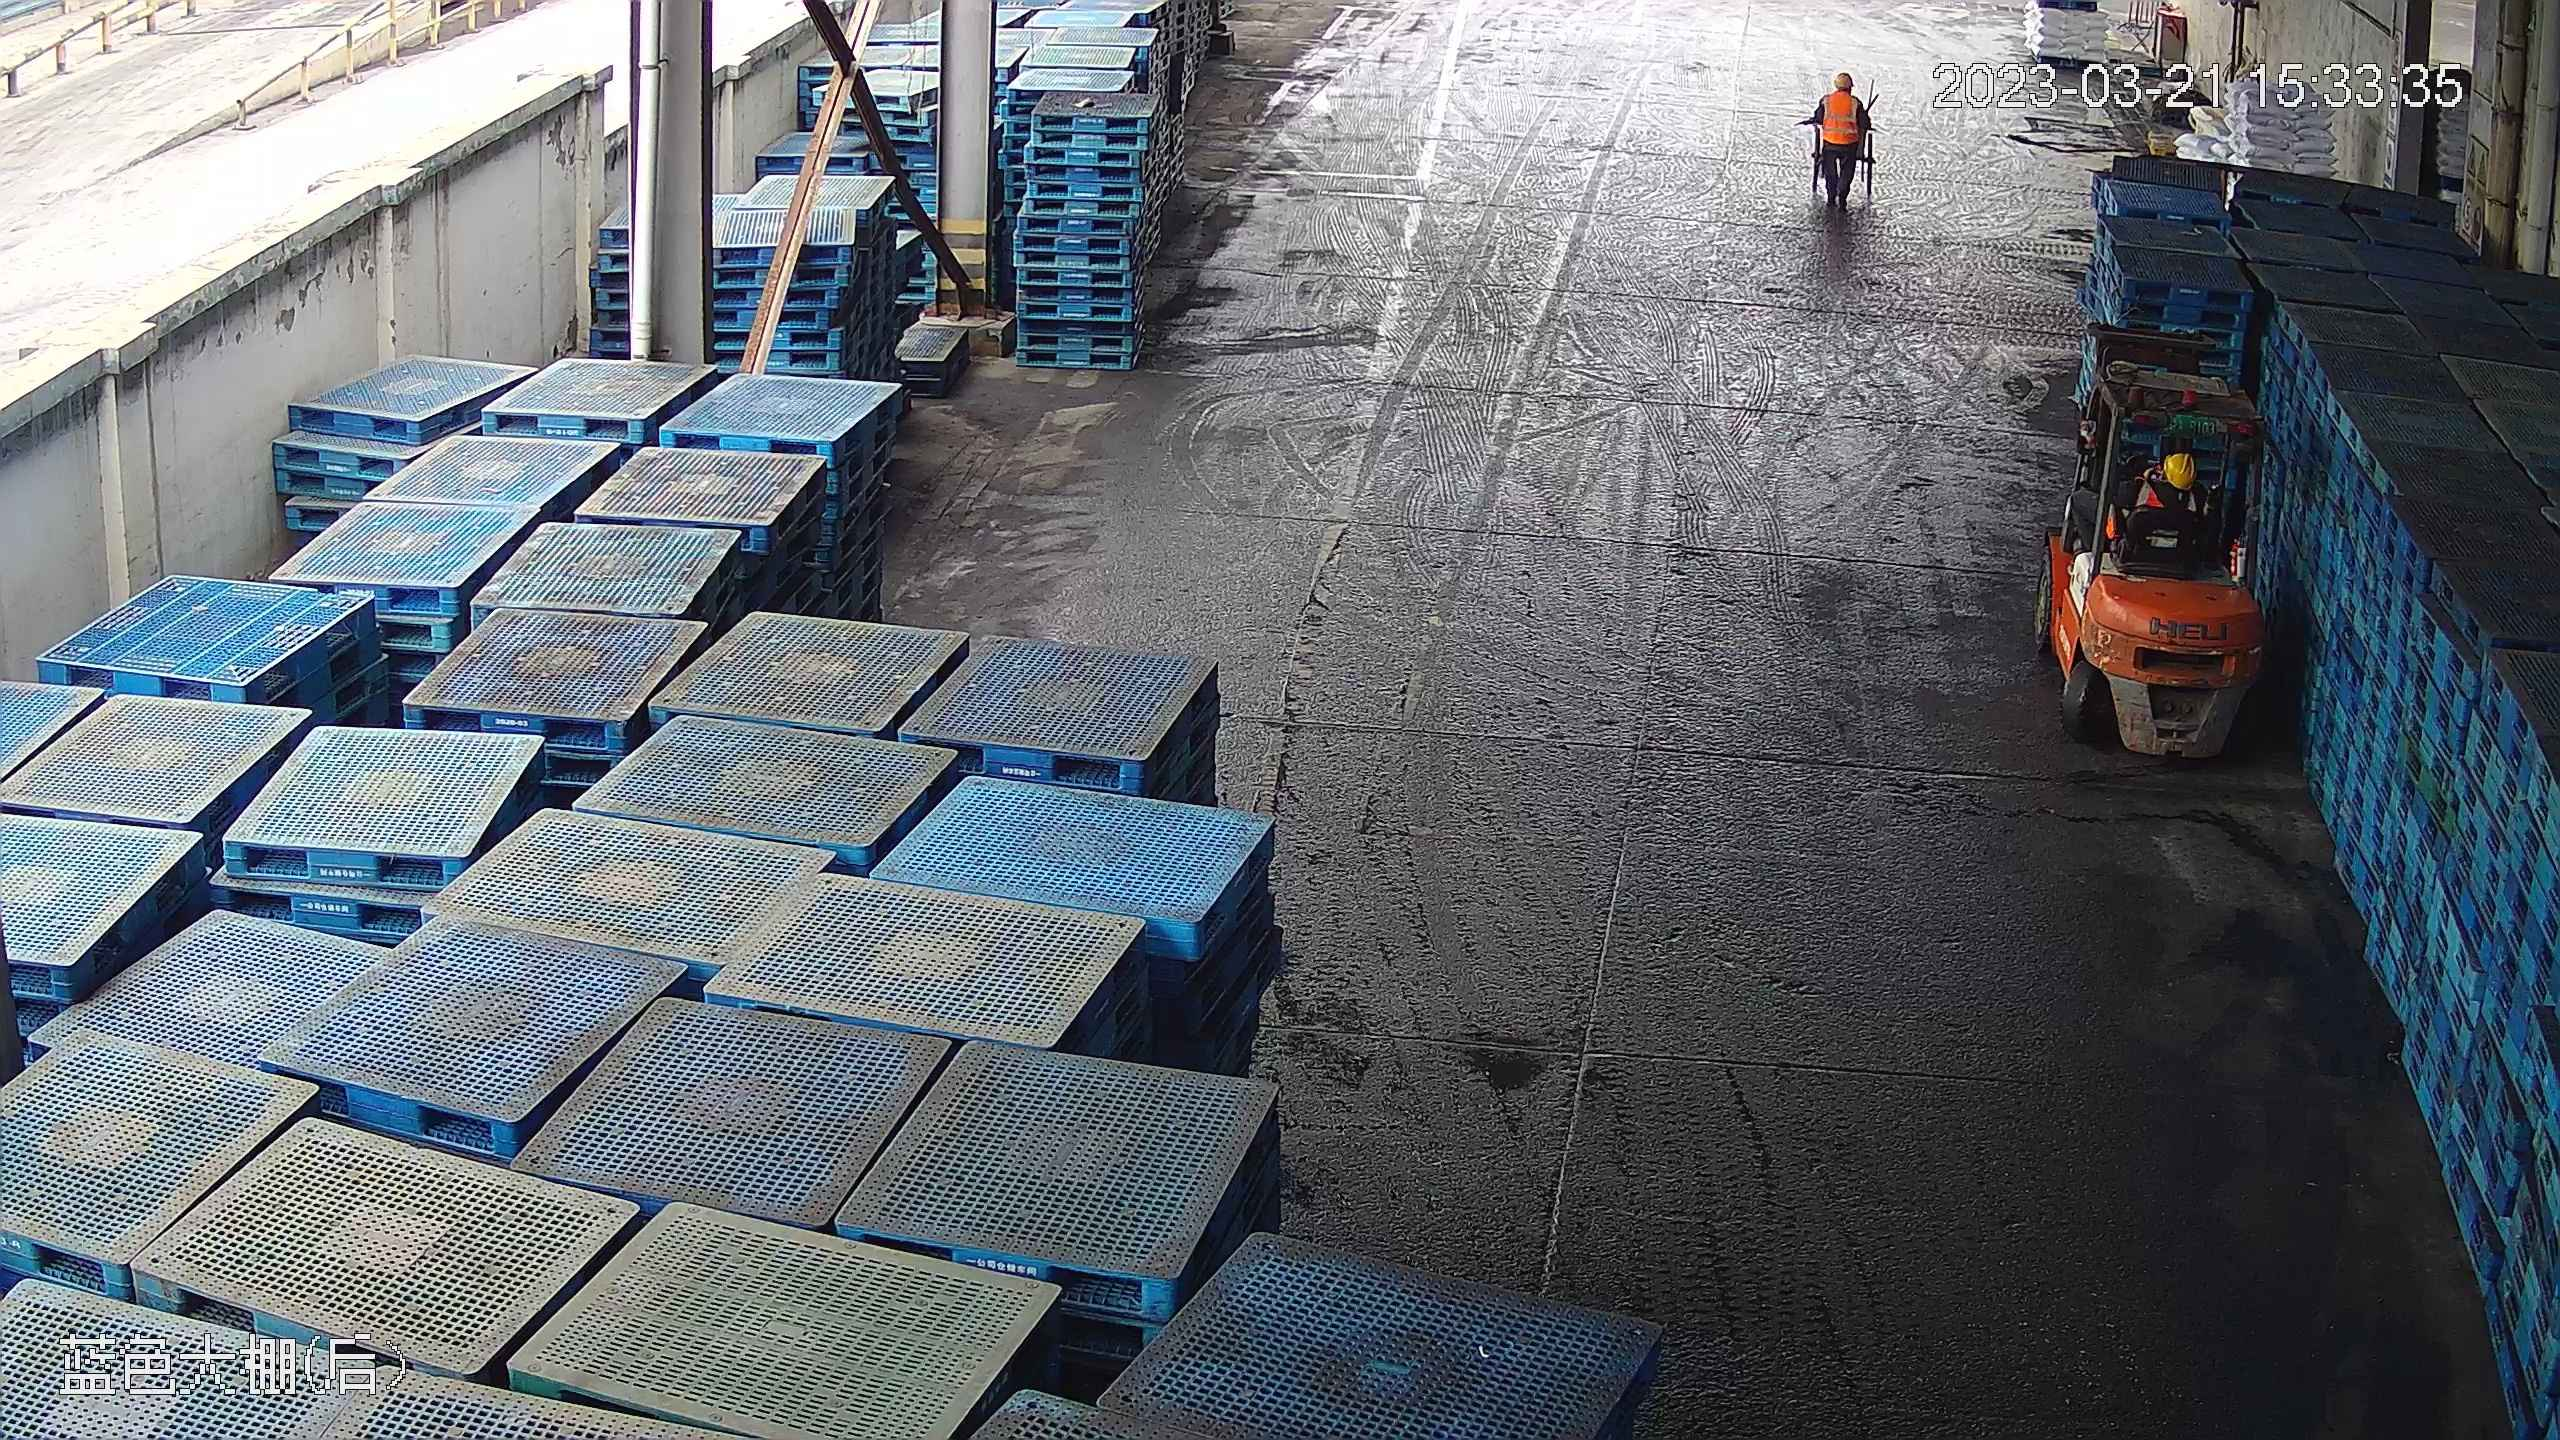head: (1817, 65, 1867, 118)
helmet: (2159, 450, 2194, 491), (1834, 71, 1855, 89)
people: (1804, 63, 1876, 245)
